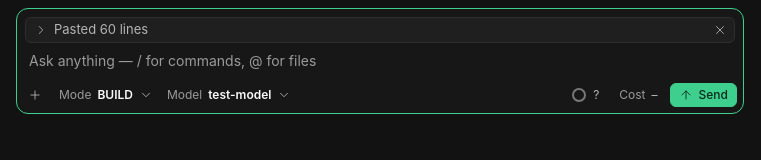
it: Composer paste chip › collapses a large paste into a removable chip and sends its full text
Expected: the text "Pasted 60 lines" is shown, [54, 20, 148, 40]
Type "summarise this" into the dropdown named "Message" at (380, 61), box [17, 43, 743, 79]
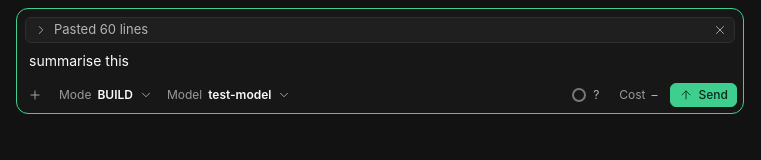
Press Enter in the dropdown named "Message", box [17, 43, 743, 79]
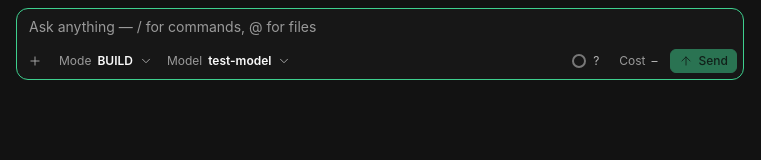
Result: the button "Pasted 60 lines" is gone
